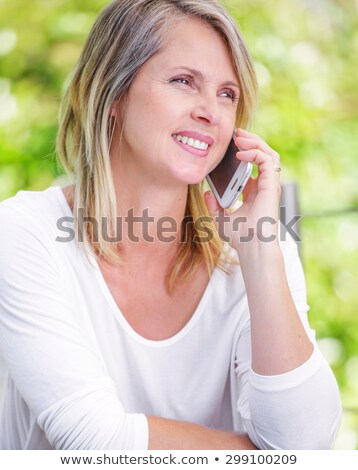phone: (197, 127, 276, 213)
talk: (129, 62, 285, 242)
